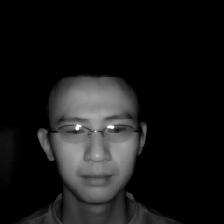normal: (38, 66, 153, 207)
